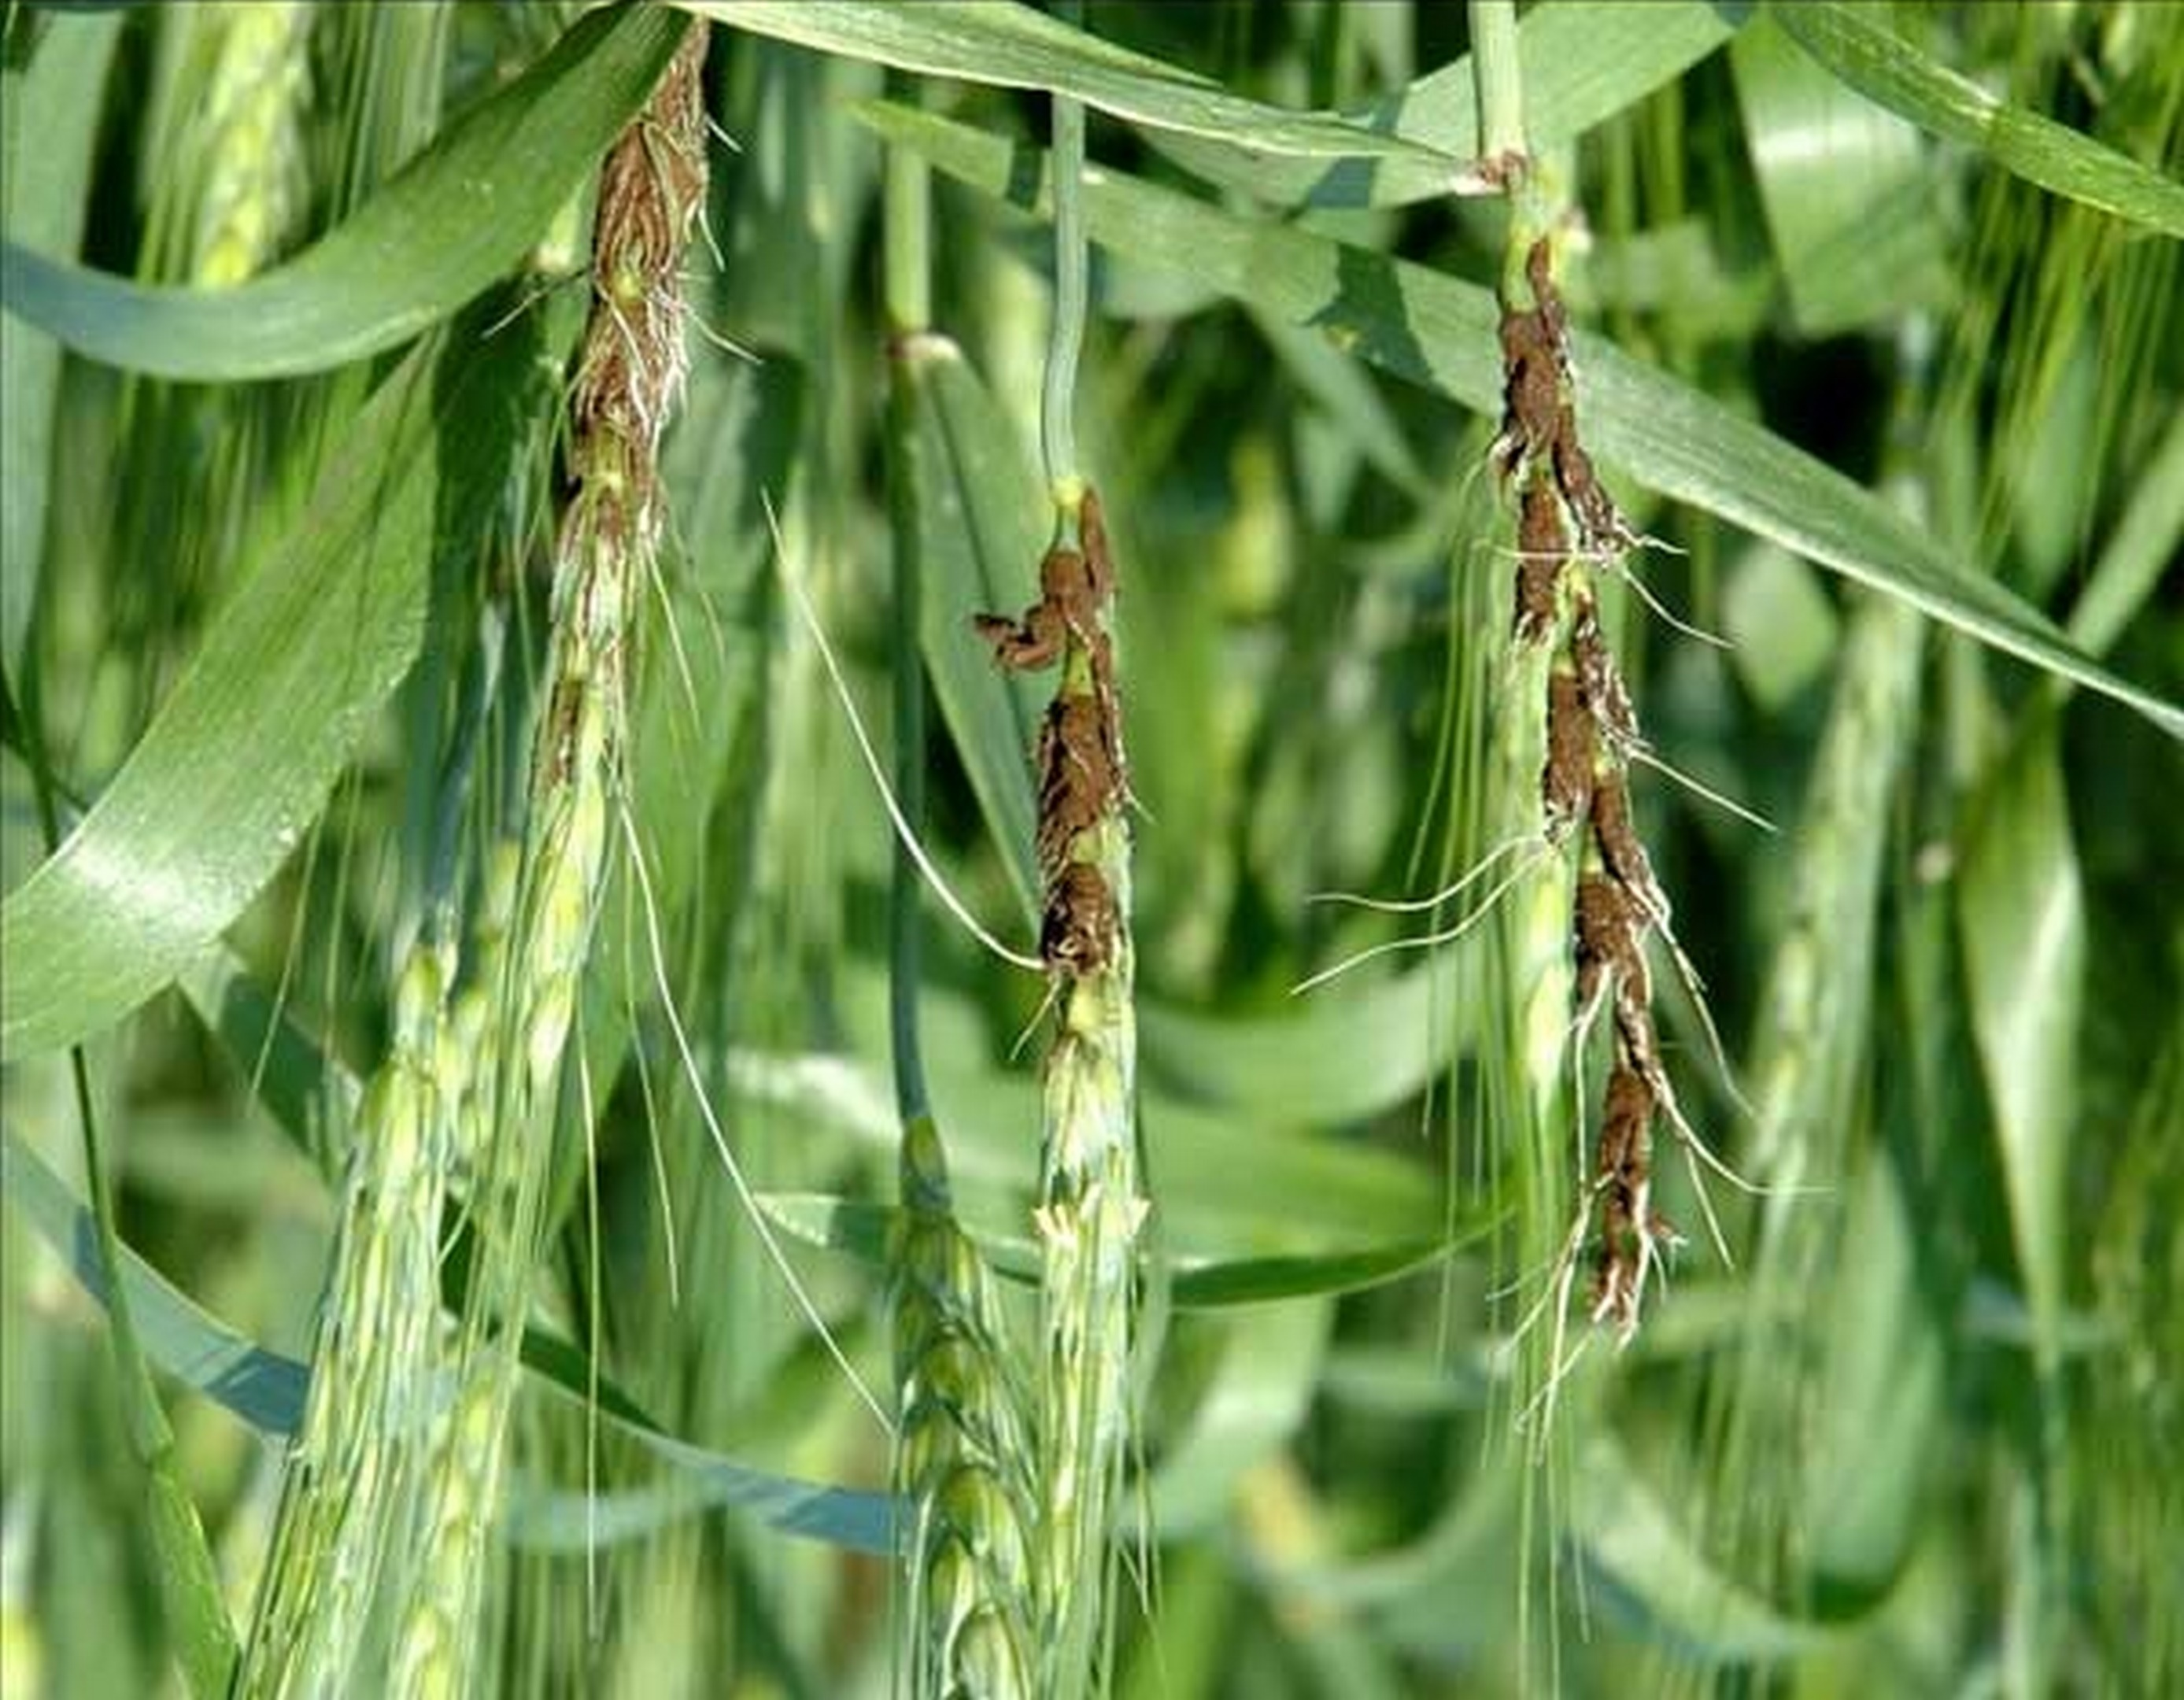Wheat Loose Smut: (1459, 305, 1744, 1319), (509, 71, 746, 707), (941, 464, 1202, 1039)
